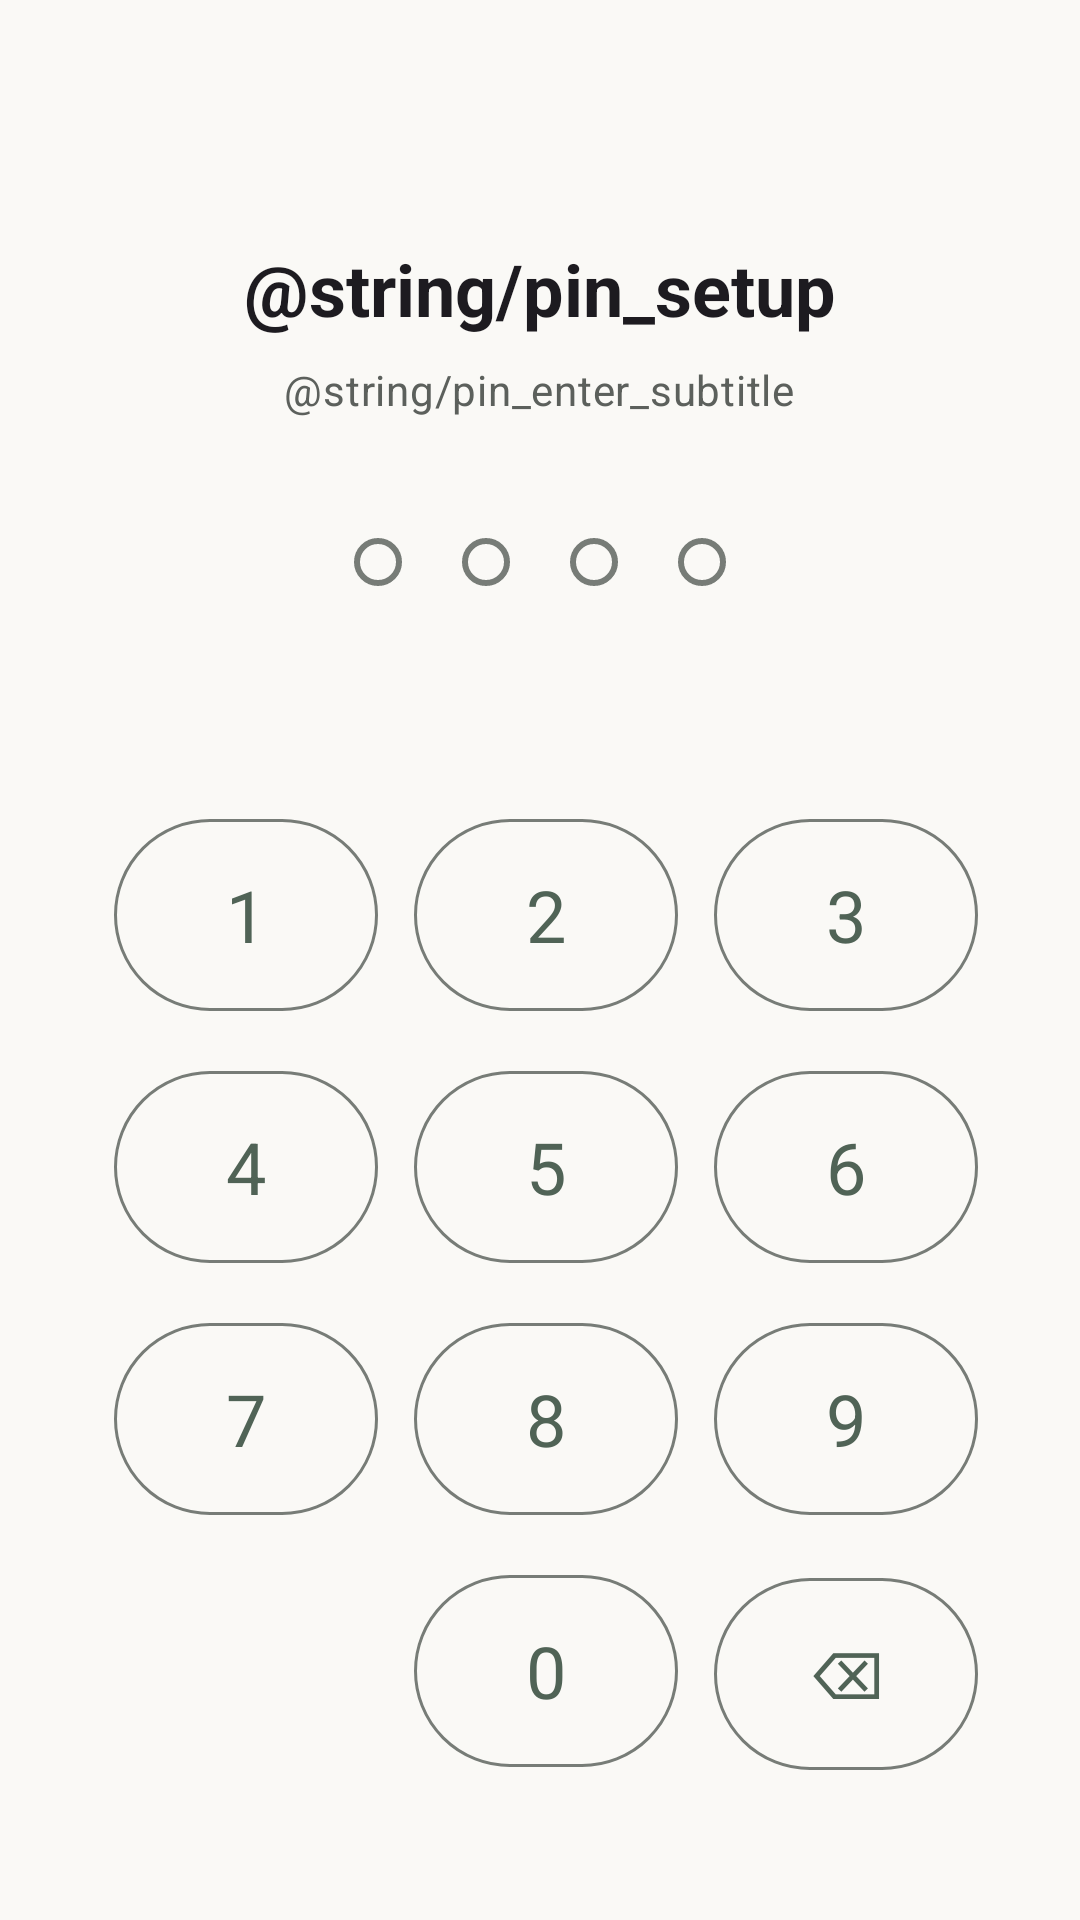

Named icons in this screenshot (1080w x 1920h) and their bounding boxes, (x1, y1, x2, y2):
pin dot empty: (354, 538, 402, 586), (462, 538, 510, 586), (570, 538, 618, 586), (678, 538, 726, 586)
